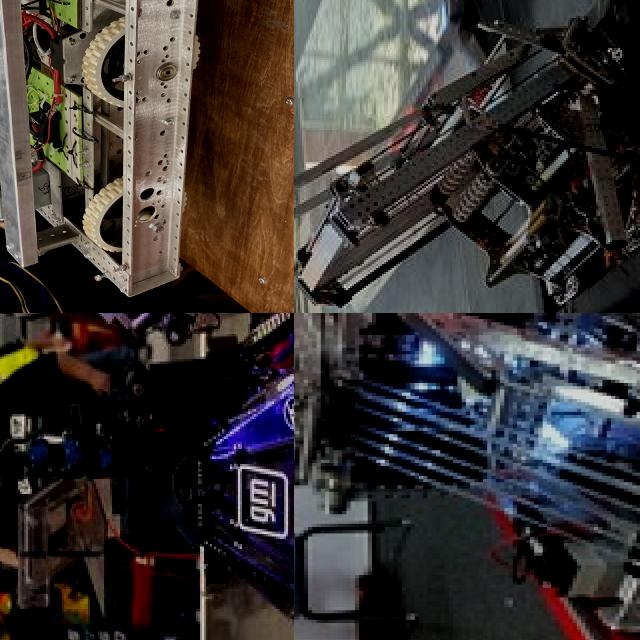FRC-Robots: (294, 313, 640, 640), (294, 0, 640, 313), (0, 313, 294, 640)
